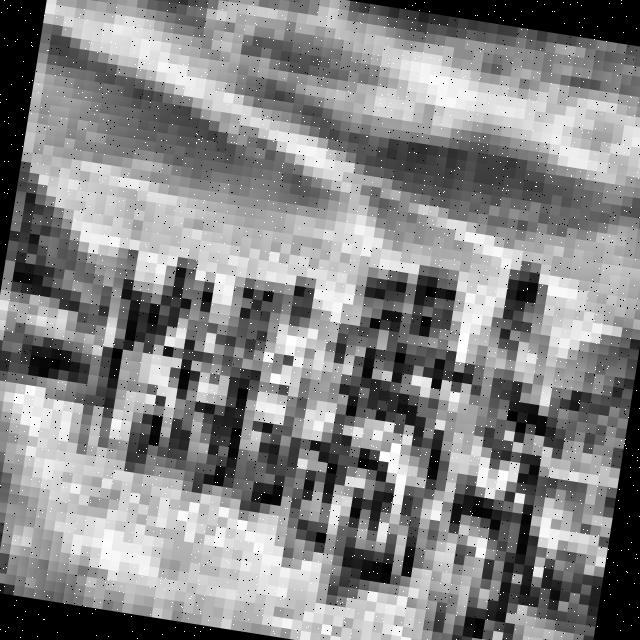mopeds: (426, 373, 569, 640), (336, 363, 460, 628), (228, 331, 318, 550), (289, 337, 372, 573), (123, 321, 197, 491), (180, 328, 247, 508)
